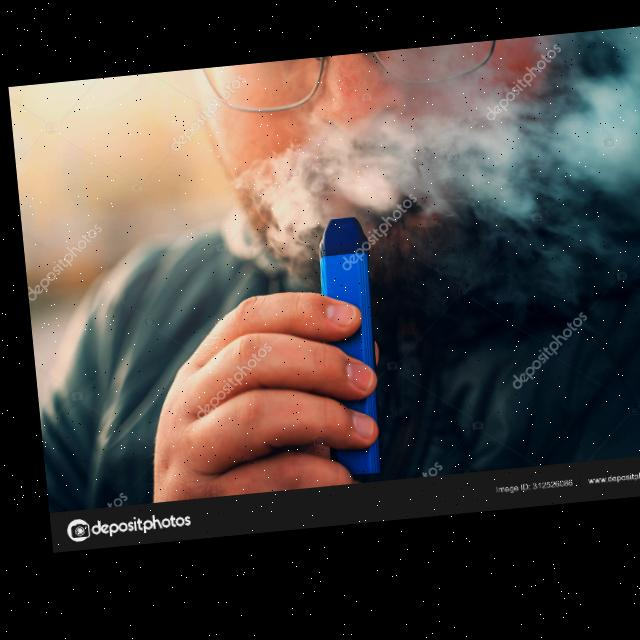vape: (307, 221, 377, 491)
